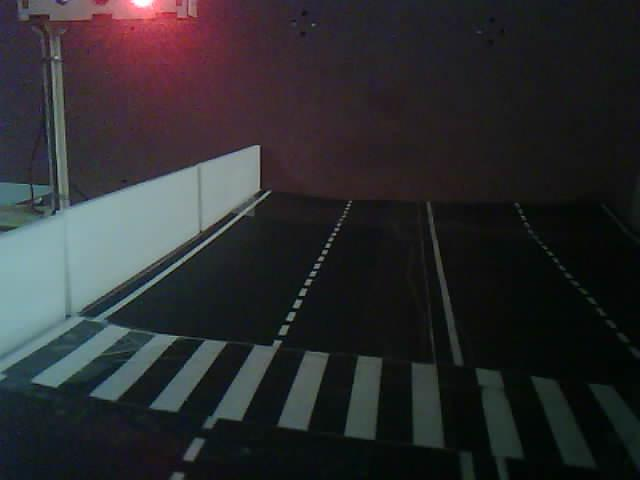crosswalk: (0, 284, 640, 480)
red: (23, 0, 224, 81)
